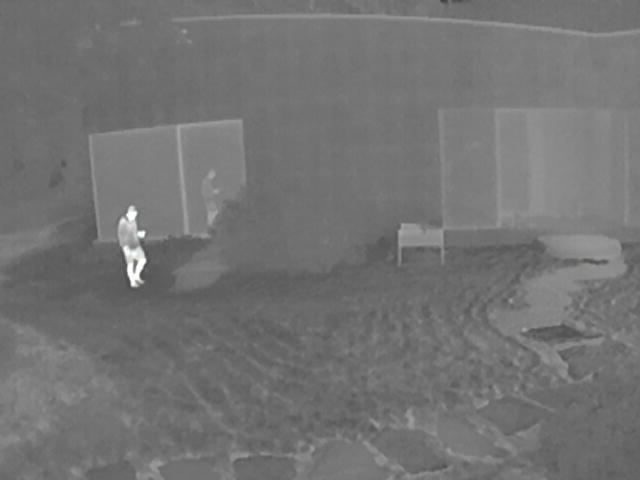person: (116, 207, 146, 291), (201, 167, 223, 234)
